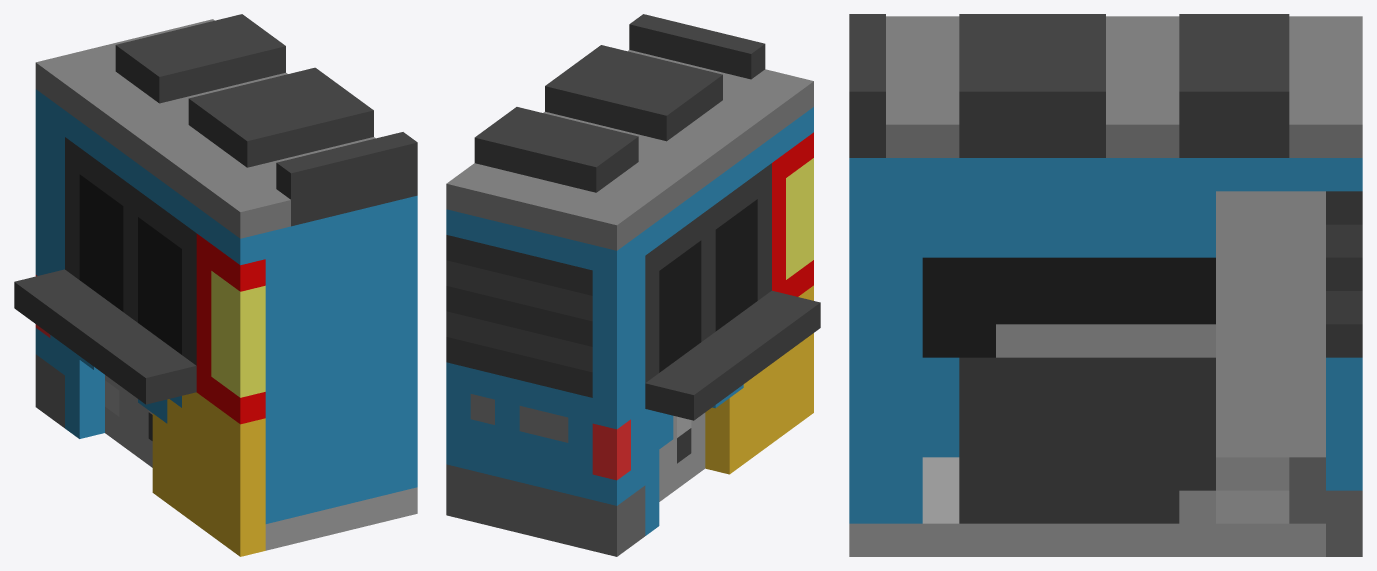
The model's file is vanBotRight.obj.
3 views of the same model, side by side, from view 1: azimuth 30°, elevation 25°; view 2: azimuth 150°, elevation 25°; view 3: azimuth 270°, elevation 25° (orthographic). The views are drawn at different scales.
Bounding box in the file's own units: 0.9 × 1.4 × 1.4.
1 material, 1 textured.
